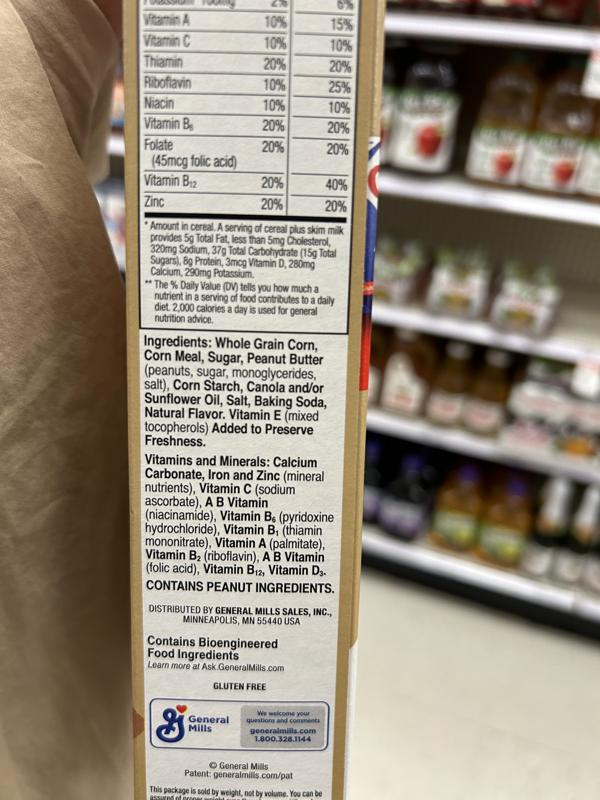ingredients: (143, 334, 327, 449)
